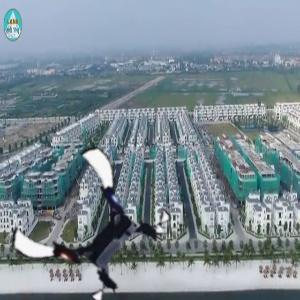drone: (22, 161, 160, 299)
